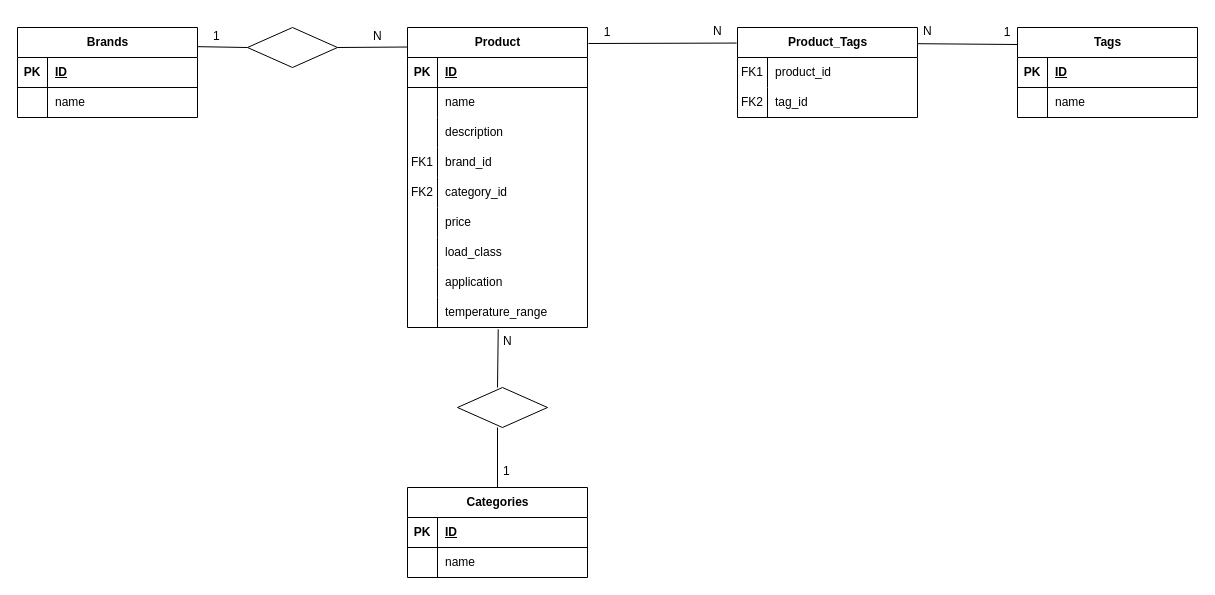
Some shapes in this 1215 by 595 pixel diagram are drawn without their labels. The centre of each missing label's shape, as x and y in pixels:
gehört zu: (x=502, y=407)
hat: (x=292, y=47)
